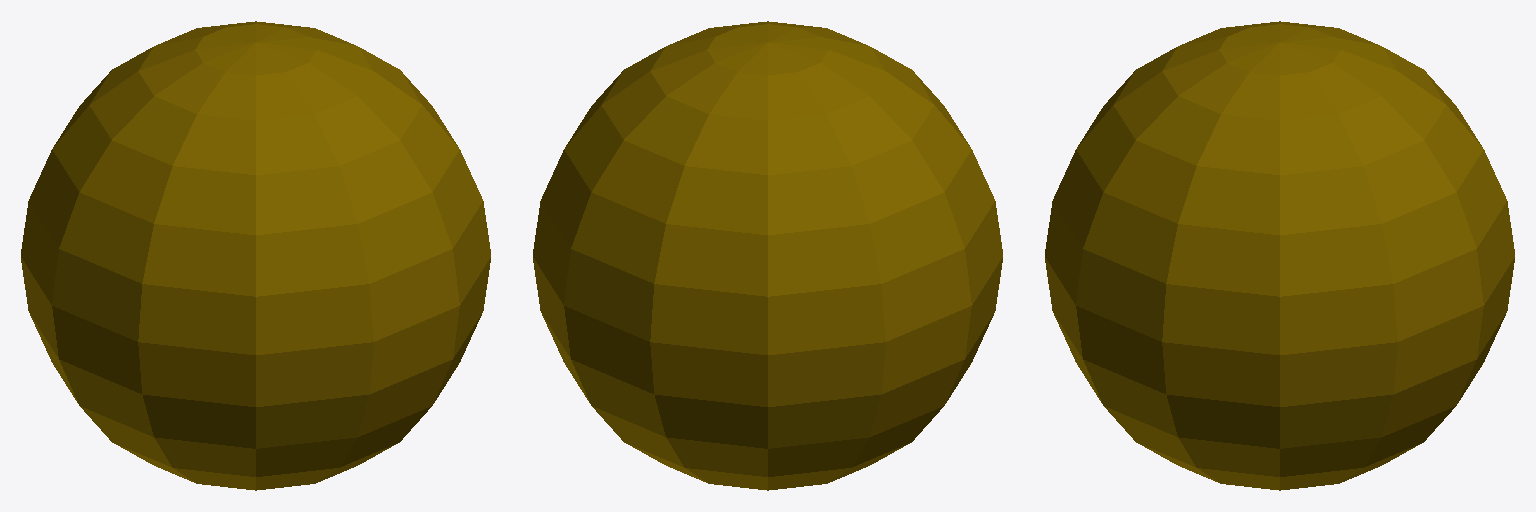
Rendered from thn.obj.
3 renders of one model, left to right at view 1: azimuth 30°, elevation 25°; view 2: azimuth 150°, elevation 25°; view 3: azimuth 270°, elevation 25°, orthographic.
Parts seen in each view (by area): view 1: Capsule001; view 2: Capsule001; view 3: Capsule001.
Part boxes in pixels (bbox=[...]): Capsule001: bbox=[21, 21, 490, 490]; Capsule001: bbox=[533, 21, 1002, 490]; Capsule001: bbox=[1045, 21, 1514, 490].
Bounding box in the file's own units: 200 × 200 × 200.